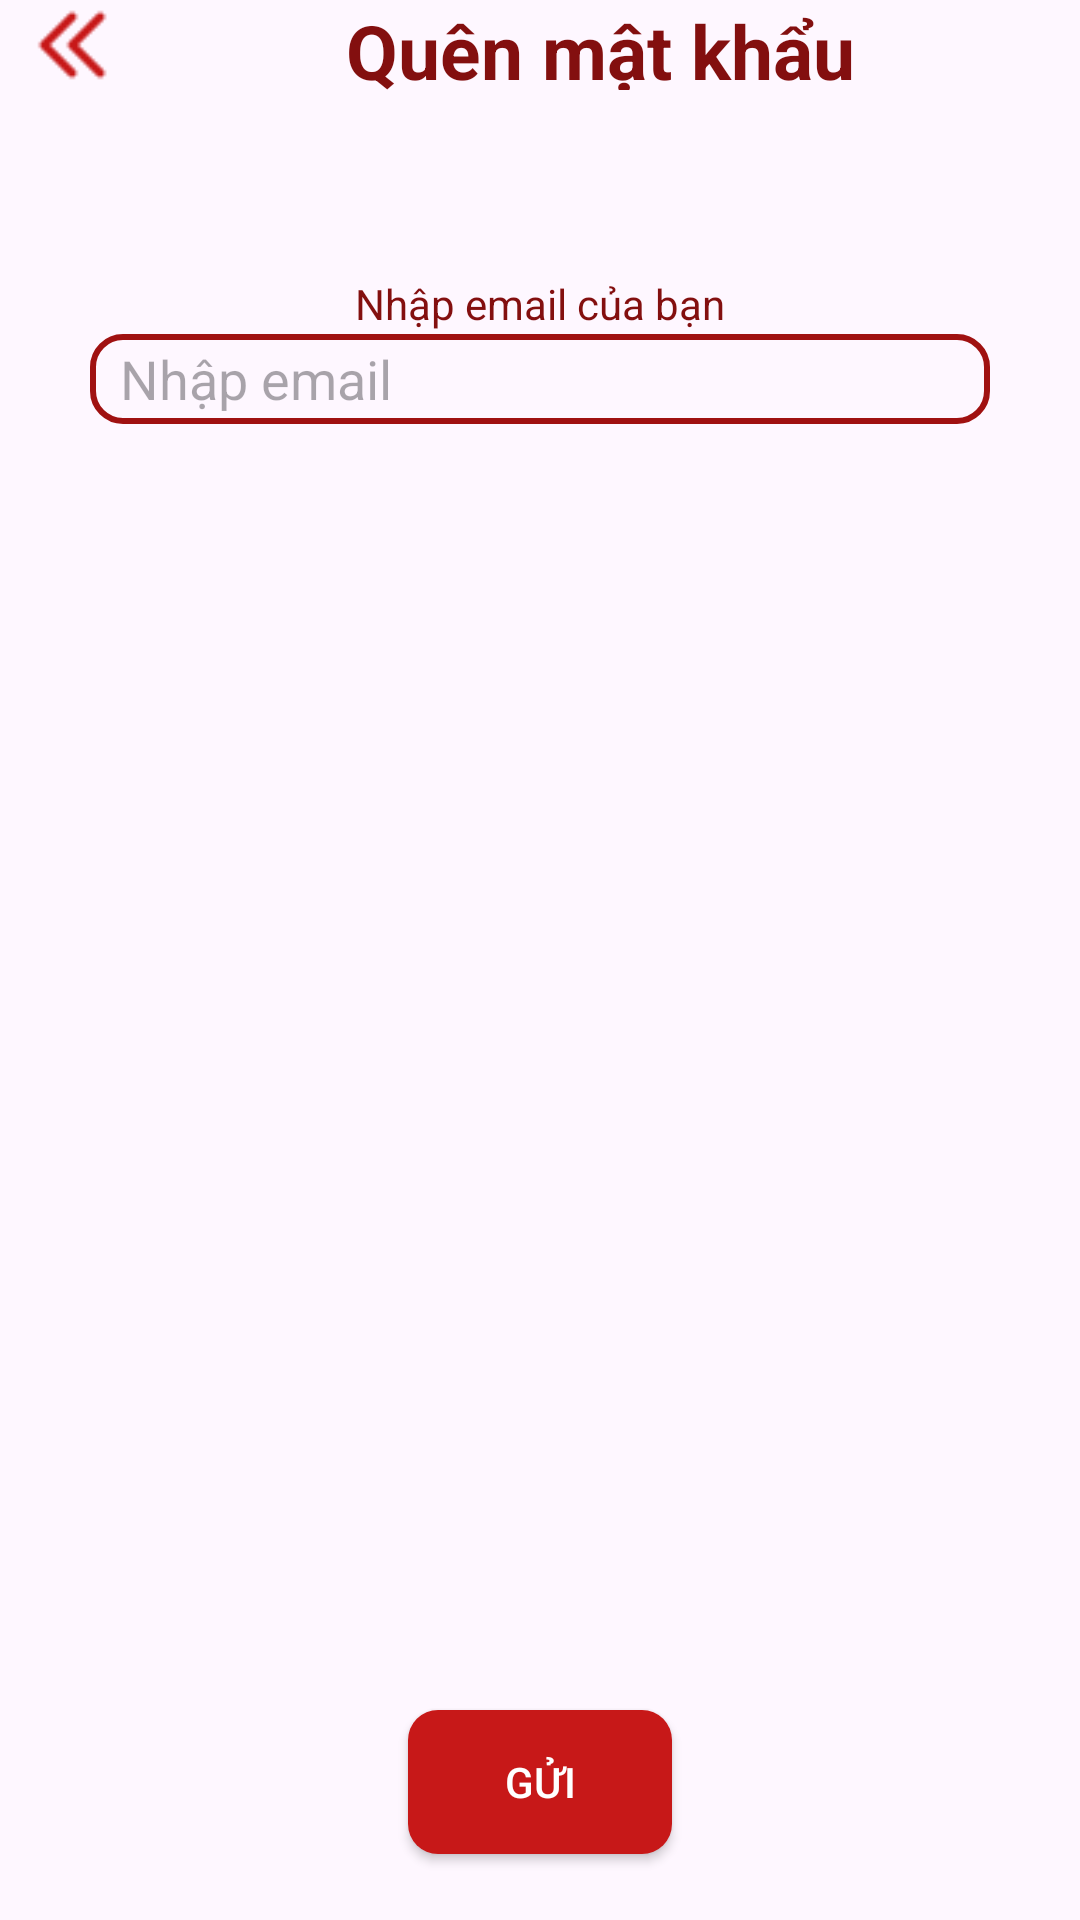

Point at icon controls on the screen. Image size 1080x1920, points as (x=x, y=y).
back: (x=72, y=45)
